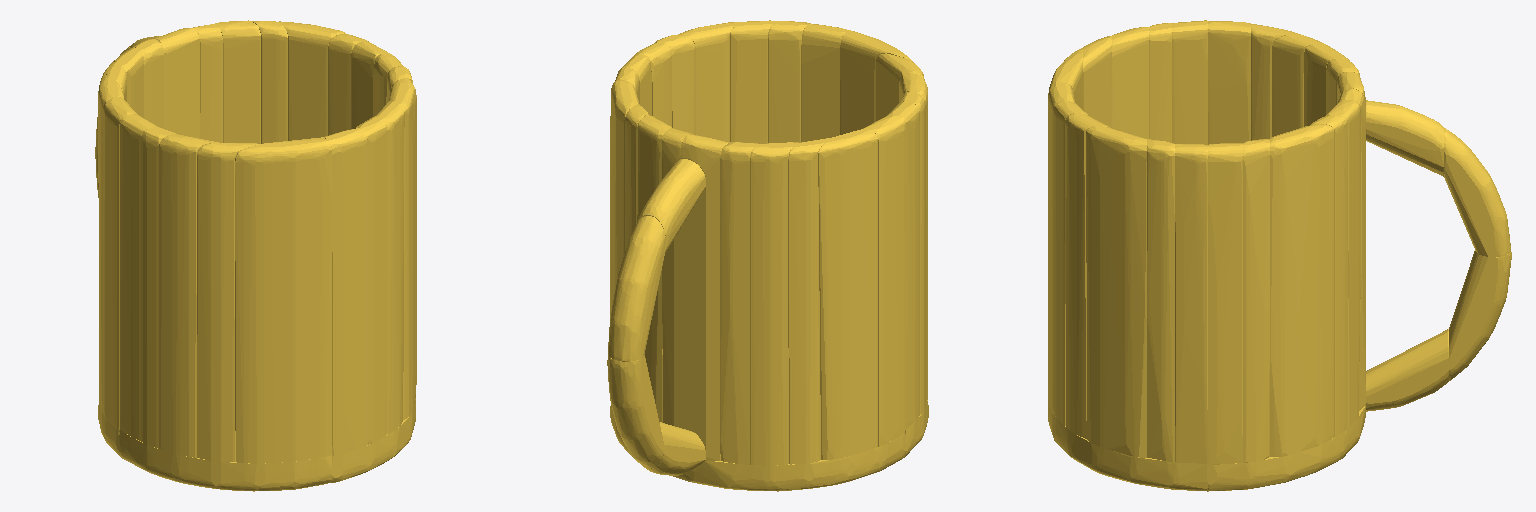
The robot description file, URDF, robot "965.urdf":
<?xml version="1.0" ?>
<robot name="965.urdf">
	<link name="baseLink">
		<inertial>
			<origin rpy="0 0 0" xyz="0 0 0"/>
				<mass value="0.1"/>
				<inertia ixx="6e-5" ixy="0" ixz="0" iyy="6e-5" iyz="0" izz="6e-5"/>
		</inertial>
		<visual>
			<origin rpy="0 0 0" xyz="0 0 0"/>
			<geometry>
				<mesh filename="42_decom_wt.obj" scale="1.07 1.07 1.19"/>
			</geometry>
			<material name="yellow">
				<color rgba="0.98 0.84 0.35 1"/>
			</material>
		</visual>
		<collision>
			<origin rpy="0 0 0" xyz="0 0 0"/>
			<geometry>
				<mesh filename="42_decom_wt.obj" scale="1.07 1.07 1.19"/>
			</geometry>
		</collision>
	</link>
</robot>

--- Render facts (derived) ---
The picture shows the robot from 3 angles, left to right: view 1: azimuth 30°, elevation 25°; view 2: azimuth 150°, elevation 25°; view 3: azimuth 270°, elevation 25°; orthographic projection.
Robot: 965.urdf — 1 links, 0 joints (none); root link baseLink; default pose: every joint at zero.
Visible links, largest first — view 1: baseLink; view 2: baseLink; view 3: baseLink.
Boxes of the visible links, left/top/right/bottom form: baseLink: left=95, top=20, right=416, bottom=491; baseLink: left=607, top=20, right=928, bottom=491; baseLink: left=1048, top=20, right=1511, bottom=491.
Size in the robot's own frame: 0.0902 by 0.1315 by 0.1079 metres.
1 mesh visuals loaded from 1 distinct referenced files (1 OBJ).